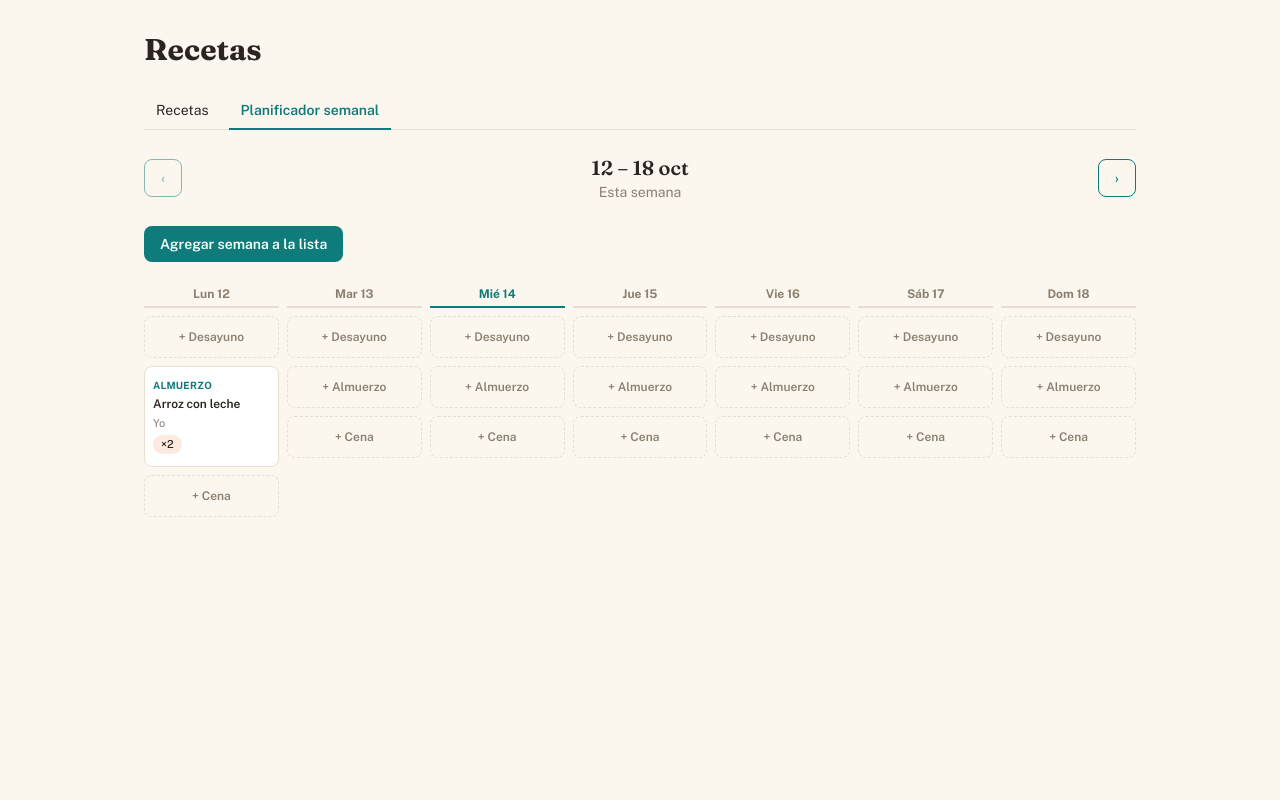
Test case: MealPlanner: assigning a recipe to an empty slot › lets the user save once a recipe is chosen
Click the button with aria-label "Cena del lunes 12, vacío, asignar" at [211, 496], box [144,475,279,517]
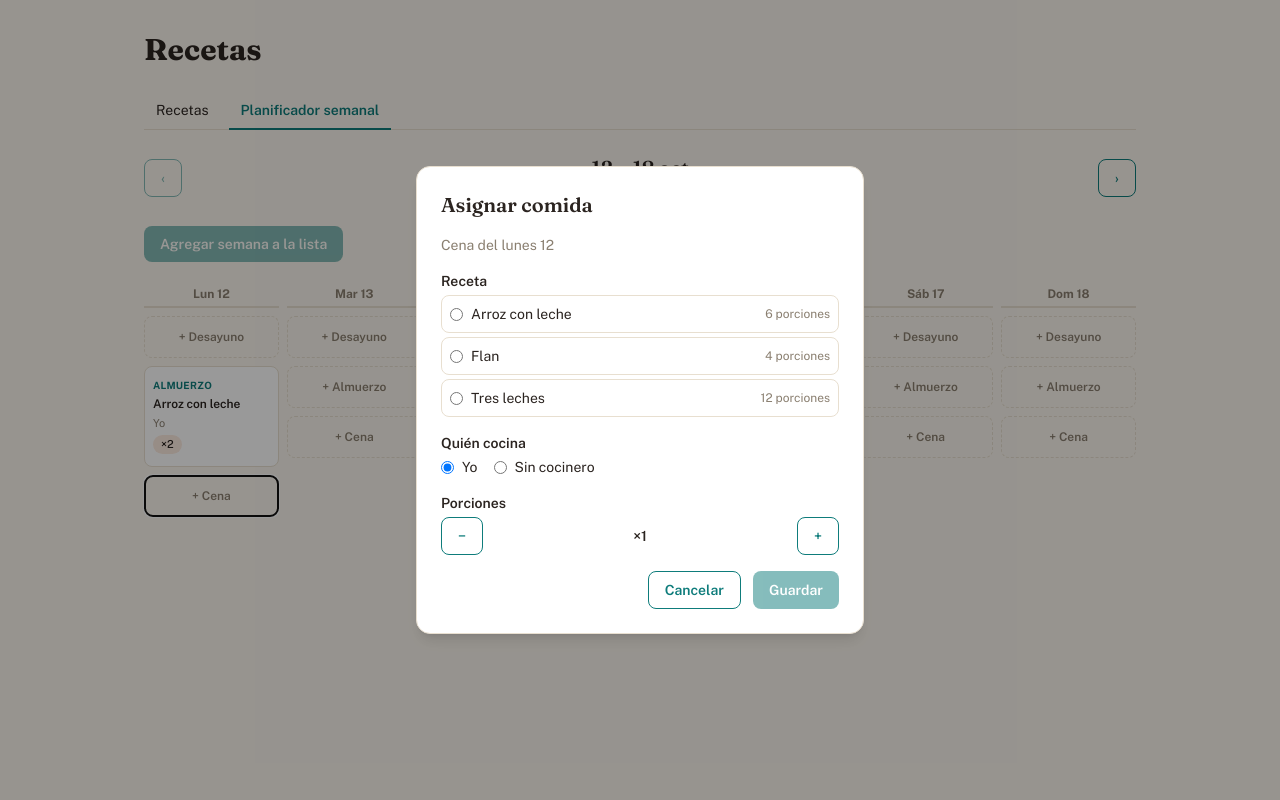
Click the radio button labelled "Flan 4 porciones" at [456, 356], box [450,350,463,362]
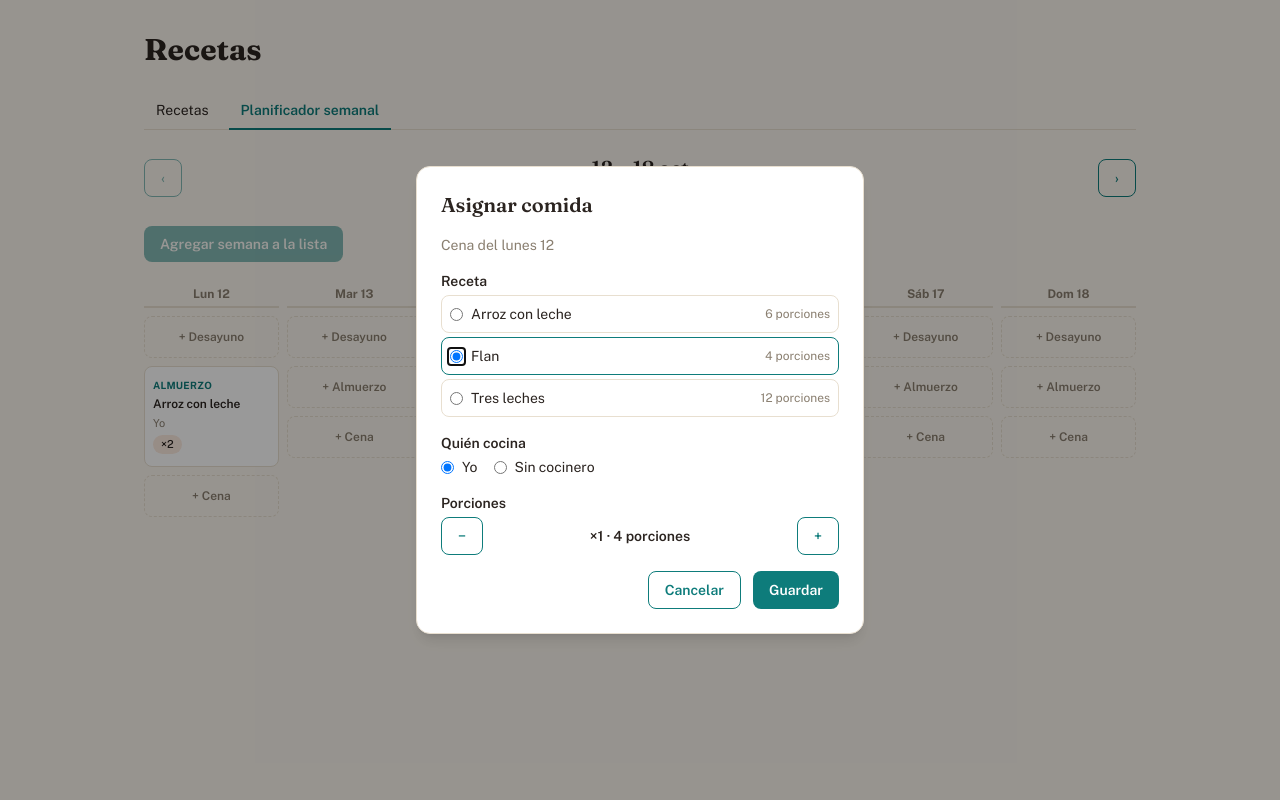
Now the button "Guardar" is enabled, box [753,571,839,609]
Now the text "×1 · 4 porciones" is shown, box [590,528,690,544]
